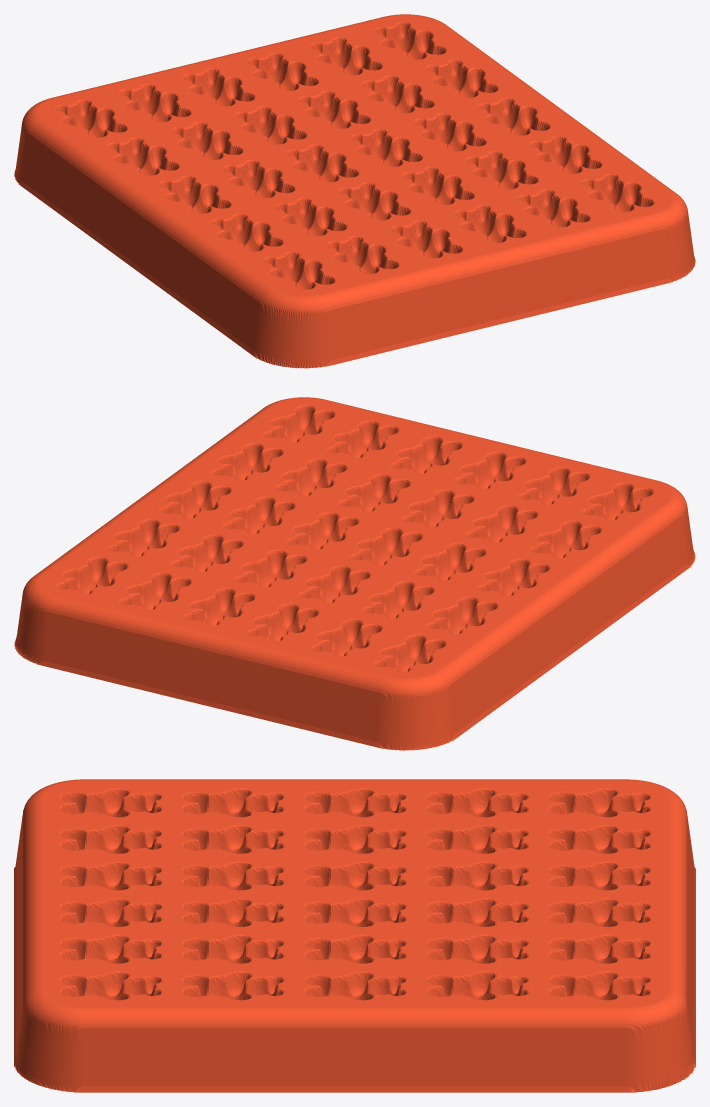
Rendered from mold.glb.
3 renders of one model, top to bottom at view 1: azimuth 30°, elevation 25°; view 2: azimuth 150°, elevation 25°; view 3: azimuth 270°, elevation 25°, orthographic. The views are drawn at different scales.
Parts seen in each view (by area): view 1: geometry_0; view 2: geometry_0; view 3: geometry_0.
Boxes of the visible parts, x1,y1,x2,y2 form: geometry_0: (14,14,695,368); geometry_0: (14,397,695,750); geometry_0: (14,779,695,1092).
Size of the model in its own units: 0.0764 by 0.0105 by 0.0882.
